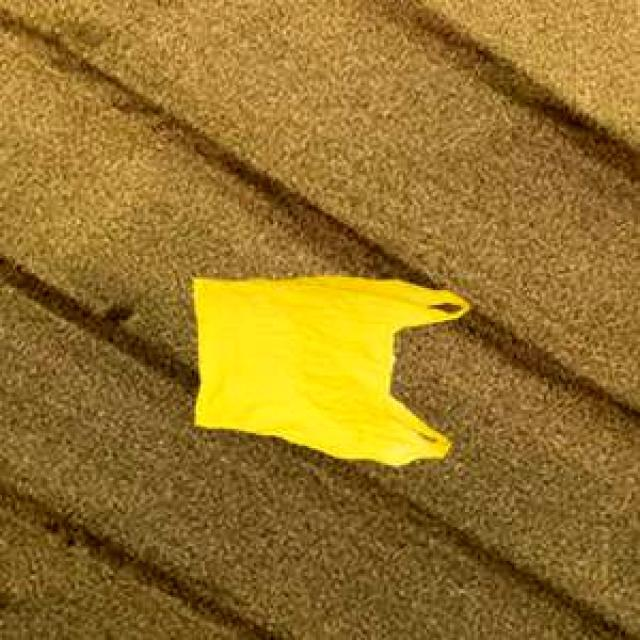Plastic_Bag: (191, 274, 466, 464)
